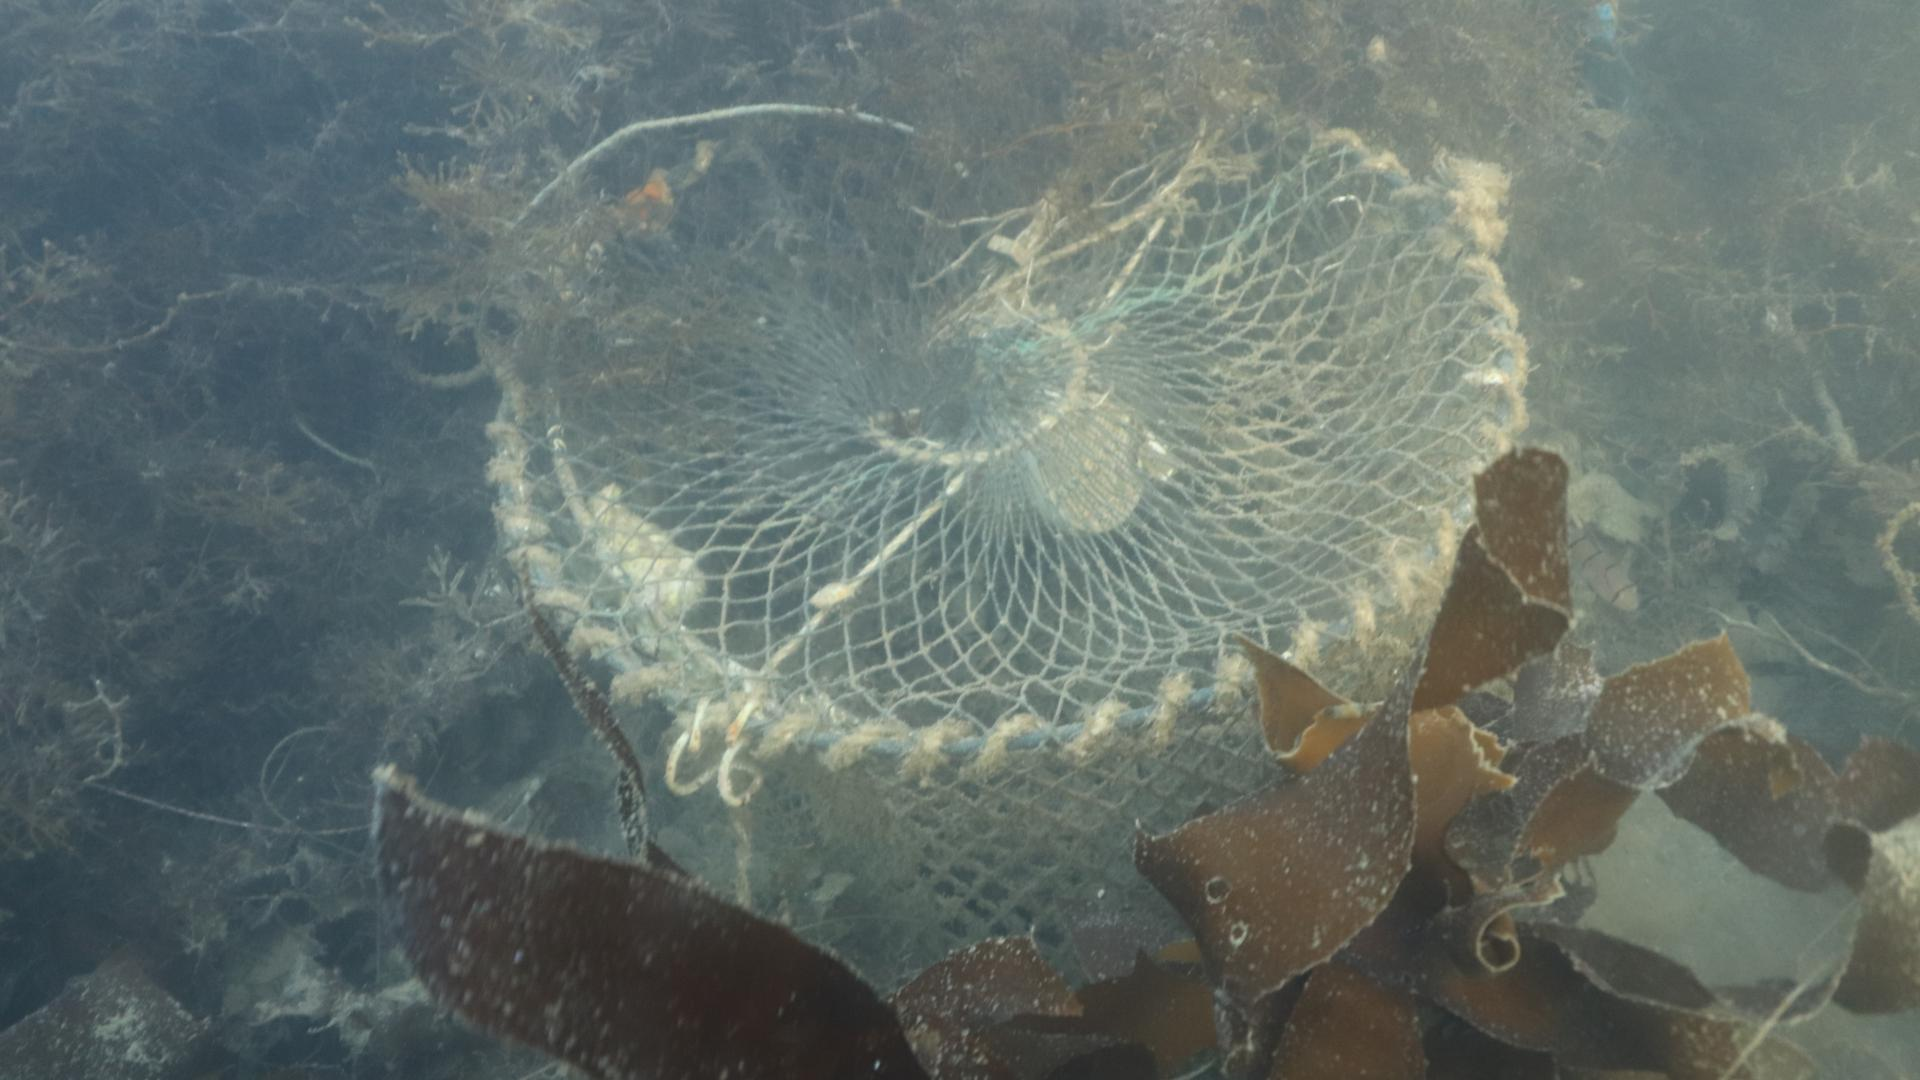circular fish trap: (484, 79, 1531, 996)
